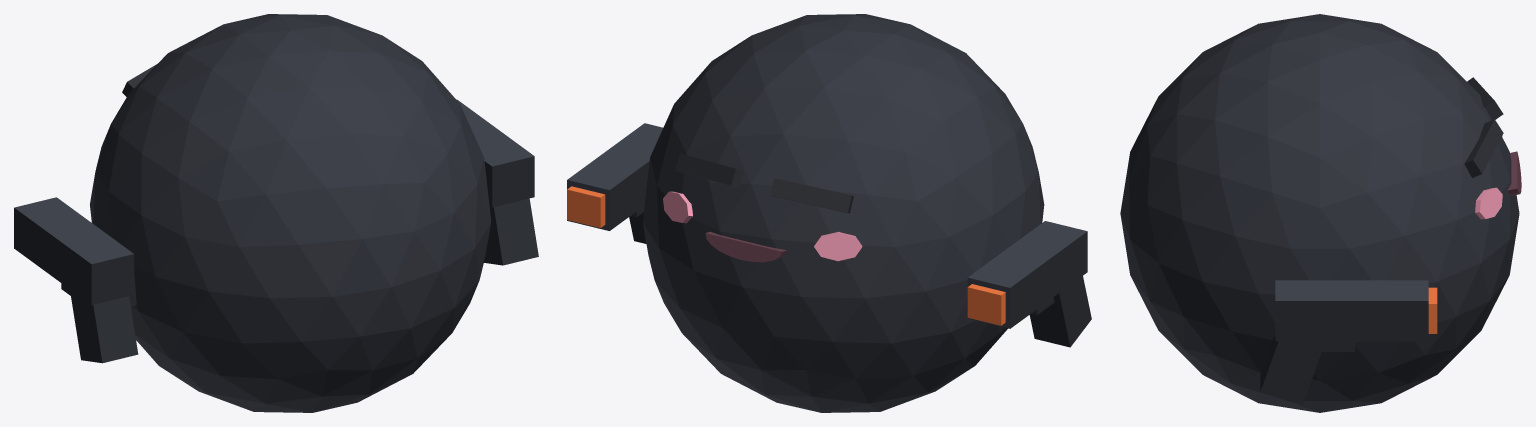
Rendered from CH_Mermo_T2_Blink.fbx.
3 views of the same model, side by side, from view 1: azimuth 30°, elevation 25°; view 2: azimuth 150°, elevation 25°; view 3: azimuth 270°, elevation 25° (orthographic).
Visible parts, largest first — view 1: CH_Mermo_T2_Blink; view 2: CH_Mermo_T2_Blink; view 3: CH_Mermo_T2_Blink.
Part boxes in pixels (x1=…): CH_Mermo_T2_Blink: x1=14, y1=14, x2=538, y2=412; CH_Mermo_T2_Blink: x1=567, y1=14, x2=1091, y2=412; CH_Mermo_T2_Blink: x1=1120, y1=14, x2=1521, y2=412.
Bounding box in the file's own units: 1.27 × 1 × 1.01.
